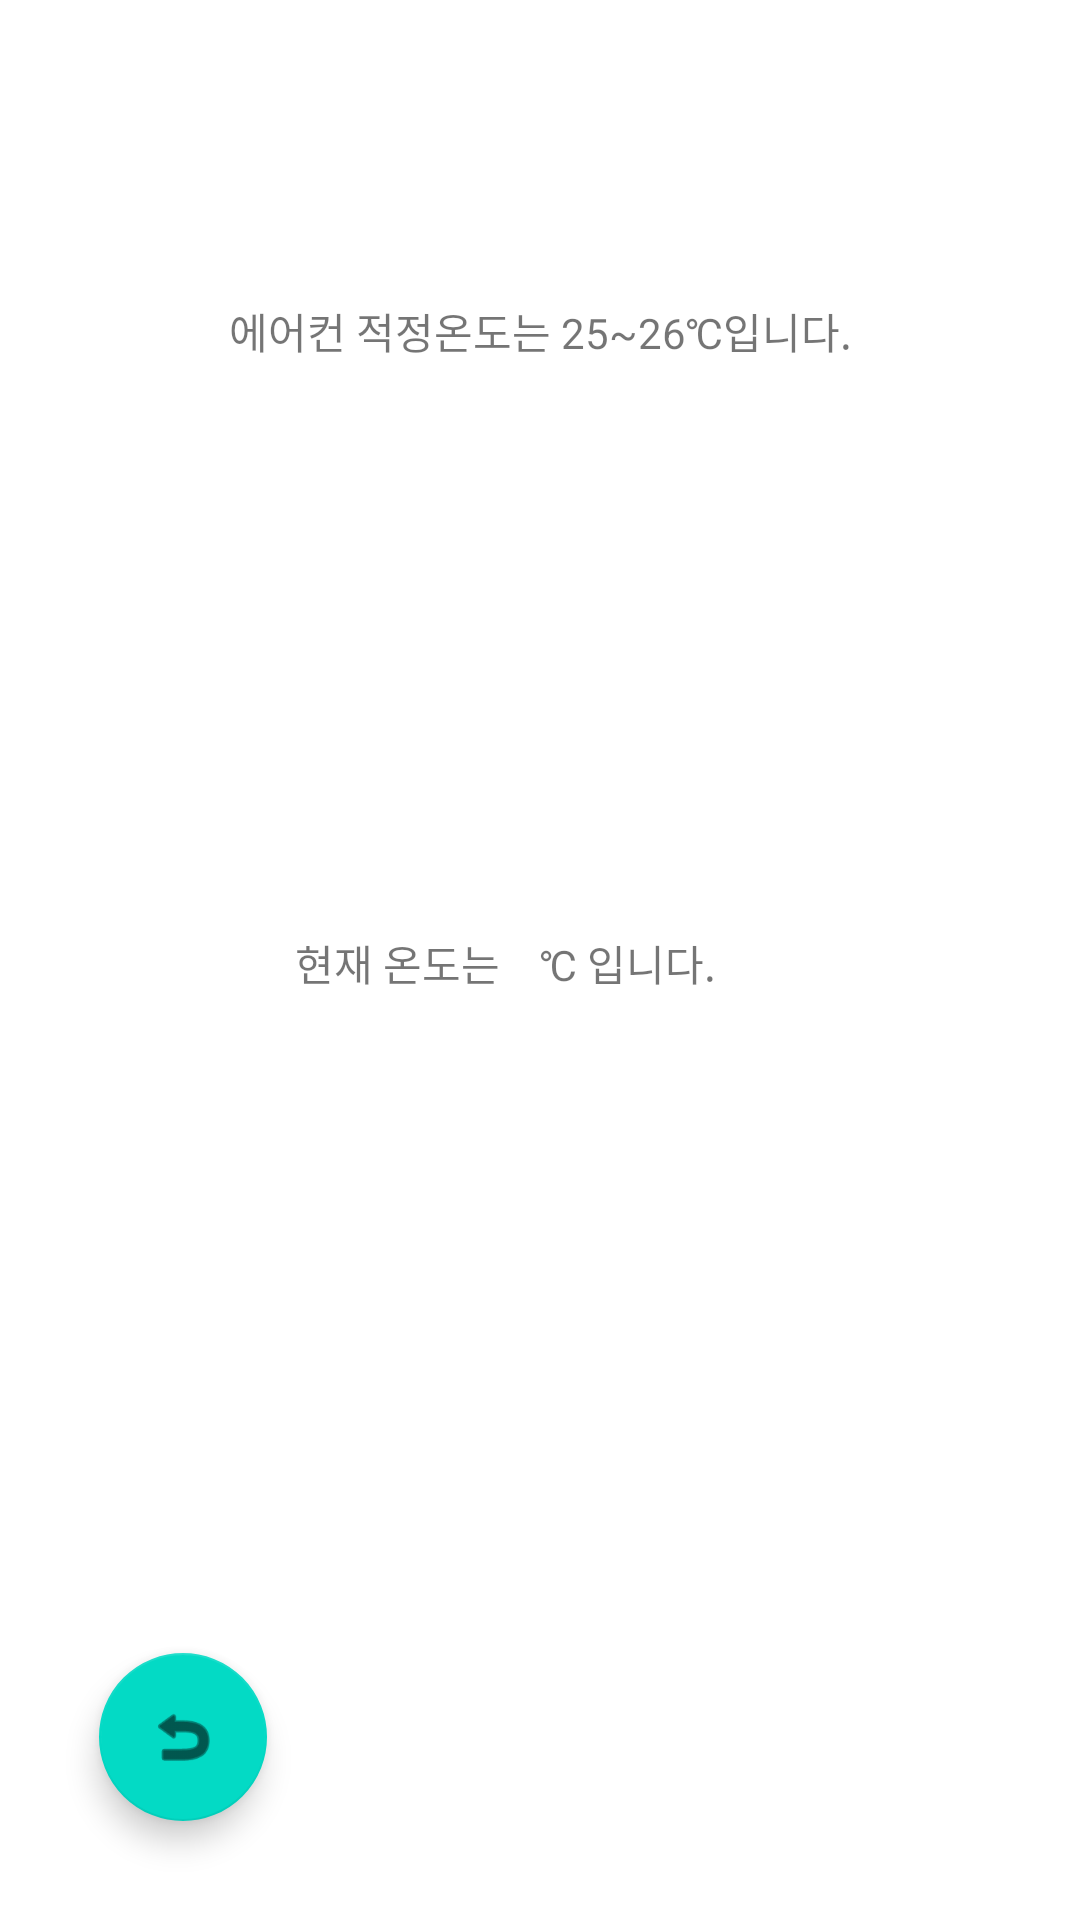

Named icons in this screenshot (1080w x 1920h) and their bounding boxes, (x1, y1, x2, y2):
revert: (99, 1653, 267, 1821)
